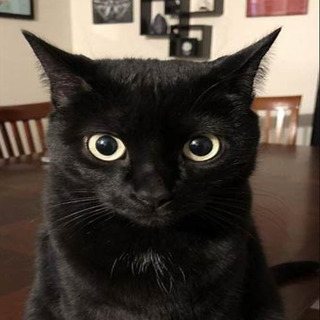gato: (12, 14, 297, 281)
